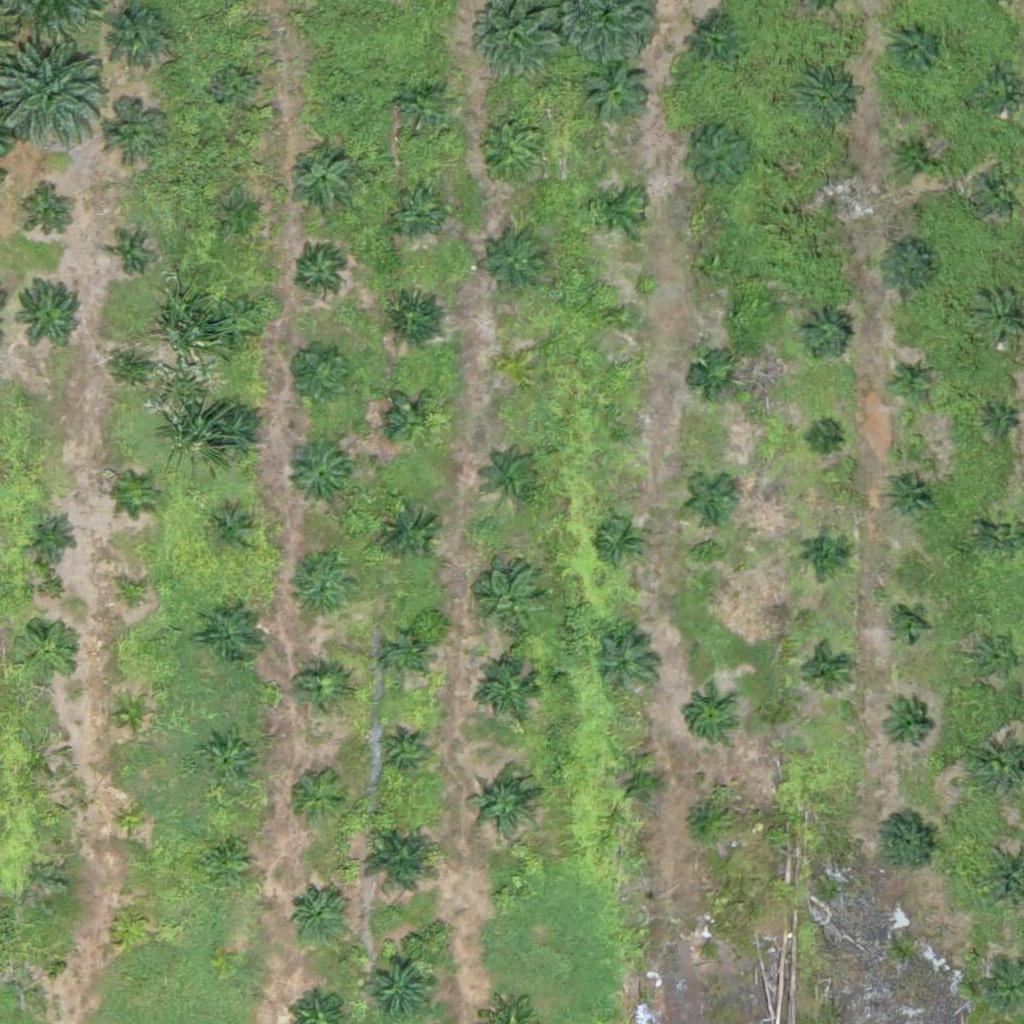Kelapa_Sawit: (358, 817, 445, 905), (466, 768, 541, 844), (280, 338, 355, 414), (361, 948, 436, 1023), (12, 274, 87, 349), (678, 119, 753, 194), (284, 766, 347, 829), (289, 559, 352, 622), (287, 883, 350, 946), (595, 632, 658, 695), (876, 808, 939, 871), (202, 602, 265, 665), (198, 732, 261, 795), (203, 402, 266, 465), (99, 101, 162, 164), (109, 3, 172, 66), (483, 231, 546, 294), (382, 286, 445, 349), (392, 76, 455, 139), (876, 236, 939, 299), (288, 443, 350, 506), (378, 503, 440, 566), (478, 660, 540, 723), (480, 570, 543, 632), (486, 448, 548, 511), (289, 145, 351, 208), (794, 67, 856, 130), (585, 58, 647, 121), (483, 121, 545, 184), (17, 620, 79, 683), (798, 645, 848, 696), (882, 699, 932, 750), (207, 506, 257, 557), (26, 191, 76, 242), (591, 181, 641, 232), (798, 306, 848, 357), (891, 128, 941, 179), (616, 758, 666, 809), (678, 793, 728, 844), (214, 300, 264, 351), (296, 665, 346, 715), (800, 528, 850, 578), (688, 473, 738, 523), (388, 395, 438, 445), (595, 516, 645, 566), (683, 691, 733, 741), (201, 833, 251, 883), (296, 247, 346, 297), (390, 188, 440, 238), (889, 19, 939, 69), (690, 353, 740, 403), (886, 356, 936, 406), (969, 630, 1019, 680), (885, 470, 935, 520), (27, 511, 77, 561), (377, 726, 426, 777), (121, 476, 159, 514), (698, 249, 736, 287), (889, 605, 927, 643), (214, 67, 252, 105), (221, 193, 259, 231), (114, 577, 152, 615), (112, 696, 150, 734), (114, 803, 152, 841), (110, 903, 148, 941), (696, 25, 734, 62), (387, 635, 424, 673), (17, 955, 54, 993), (112, 238, 149, 275), (116, 348, 153, 385), (821, 182, 846, 207), (987, 411, 1012, 436), (810, 425, 835, 450), (609, 418, 634, 443), (609, 302, 634, 327), (504, 356, 529, 381), (693, 936, 718, 961), (494, 883, 519, 908), (331, 93, 356, 118)
